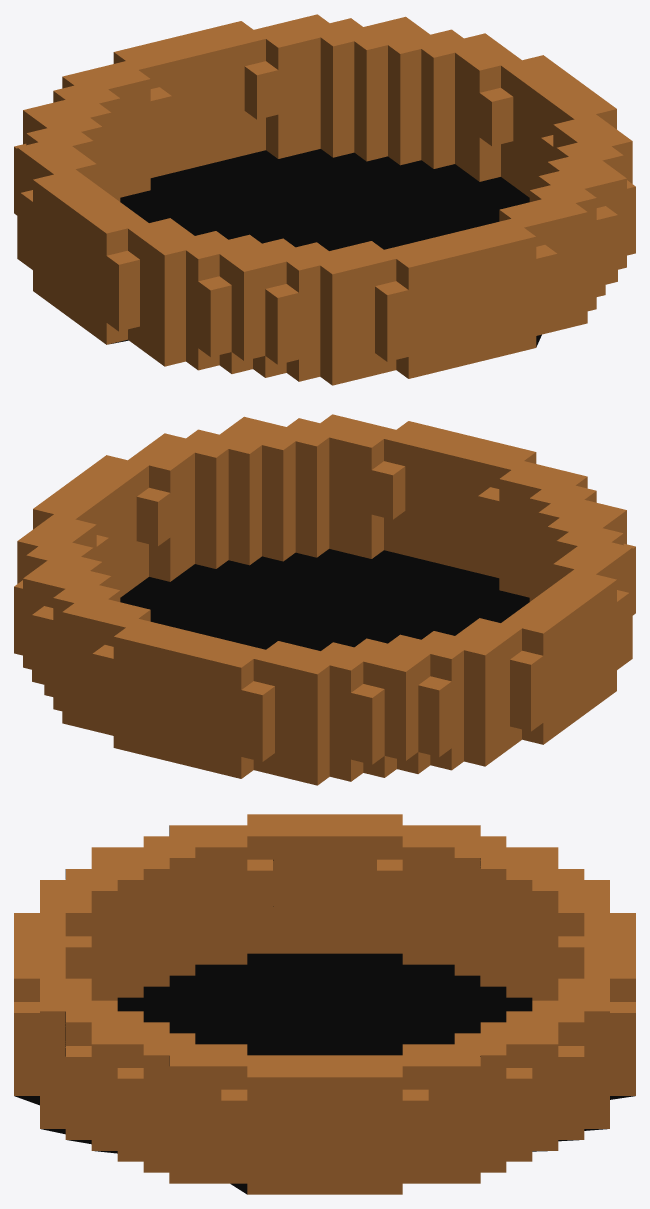
The model's file is Ring_Simple.obj.
3 renders of one model, top to bottom at view 1: azimuth 30°, elevation 25°; view 2: azimuth 150°, elevation 25°; view 3: azimuth 270°, elevation 25°, orthographic. The views are drawn at different scales.
Parts seen in each view (by area): view 1: Ring_Copper; view 2: Ring_Copper; view 3: Ring_Copper.
Boxes of the visible parts, x1,y1,x2,y2 form: Ring_Copper: (14,14,635,385); Ring_Copper: (14,414,635,785); Ring_Copper: (14,814,635,1194).
Size of the model in its own units: 0.24 by 0.05 by 0.24.
